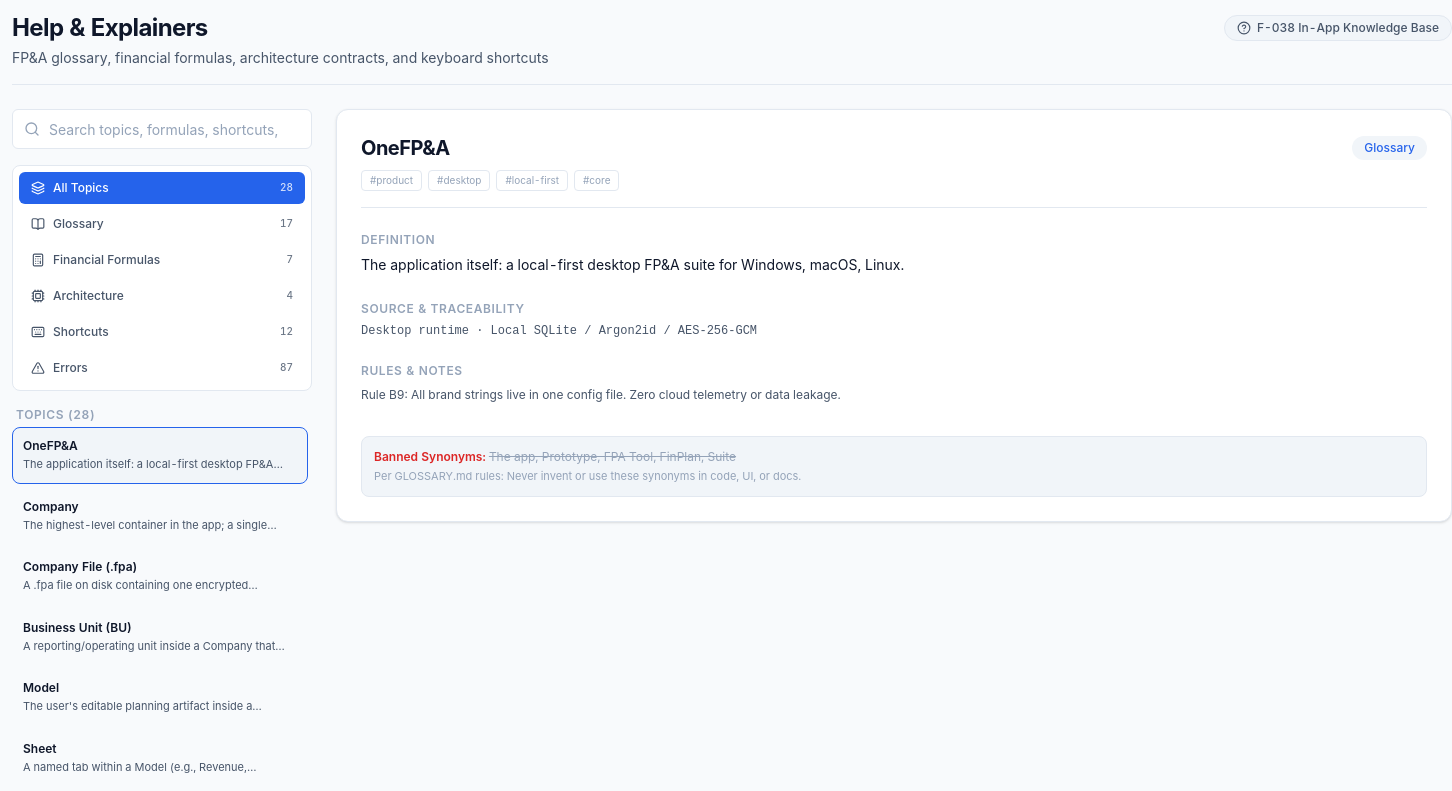
Test: S-076 Help & Explainers (F-038) › filters topics dynamically via live search and shows empty state with CTA when no match
The width and height of the screenshot is (1452, 791).
// Type query matching "EBITDA"
Type "EBITDA" into the field labelled "Search topics, formulas, shortcuts, or terms…" at (162, 129), box x1=12 y1=109 x2=312 y2=149
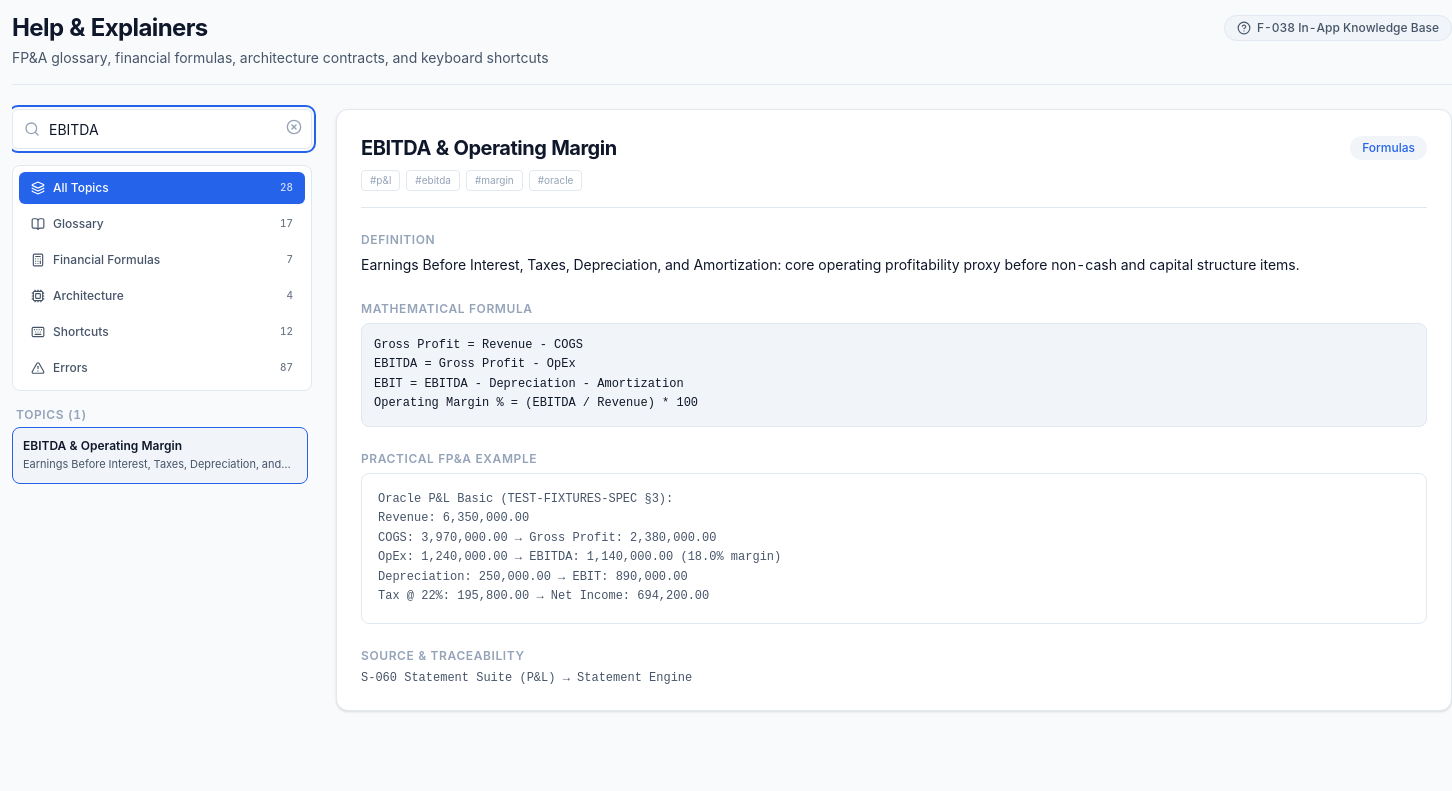
Check: the heading "EBITDA & Operating Margin" is shown, box x1=361 y1=134 x2=617 y2=162
Check: the heading "Mathematical Formula" is shown, box x1=361 y1=301 x2=533 y2=316
Replace the text in the field named "Search topics, formulas, shortcuts" with "xyznonexistentsearchterm123" at (162, 129), box x1=12 y1=109 x2=312 y2=149
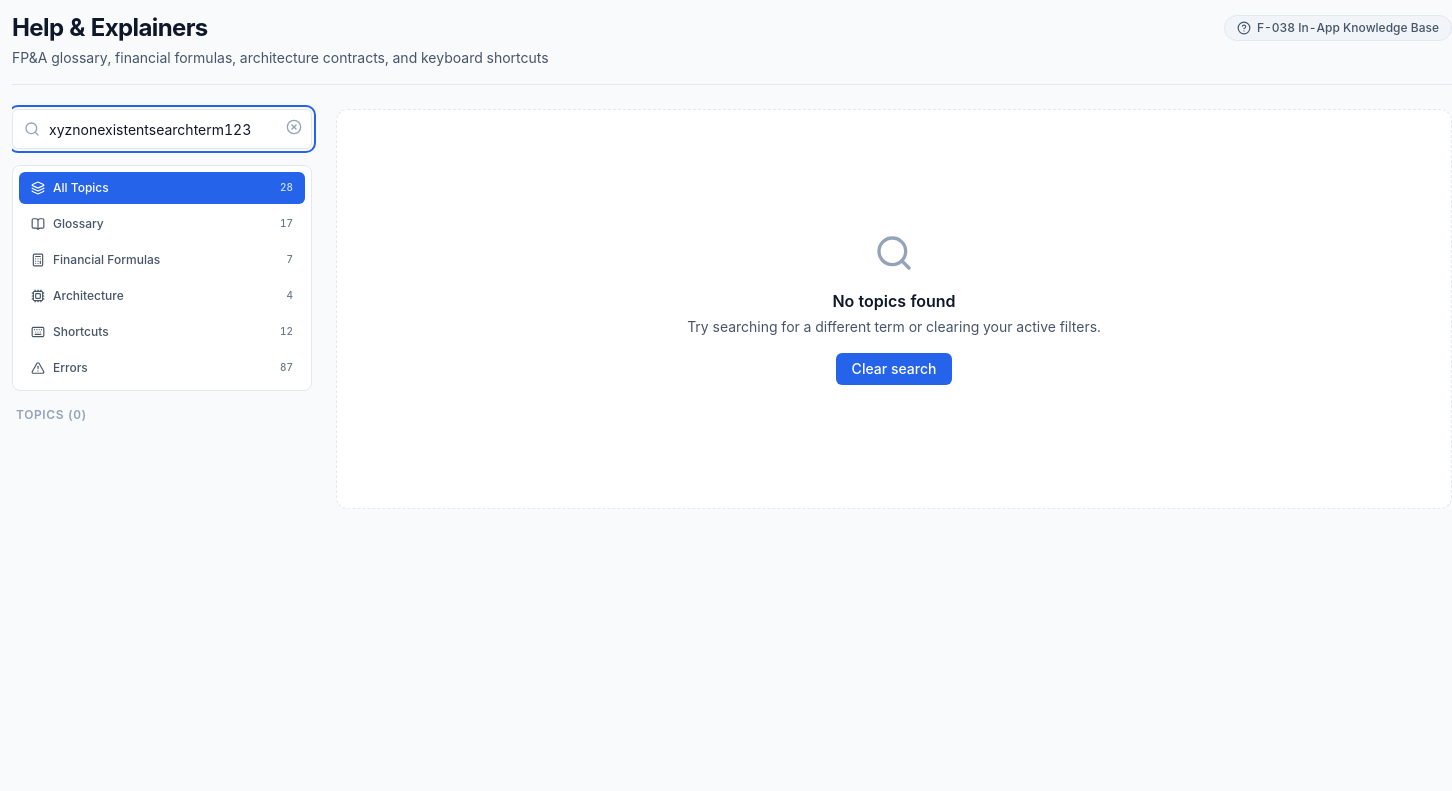
Check: the heading "No topics found" is shown, box x1=832 y1=291 x2=956 y2=311
// Click "Clear search" CTA
Click the button "Clear search" at (894, 369), box x1=836 y1=353 x2=952 y2=385
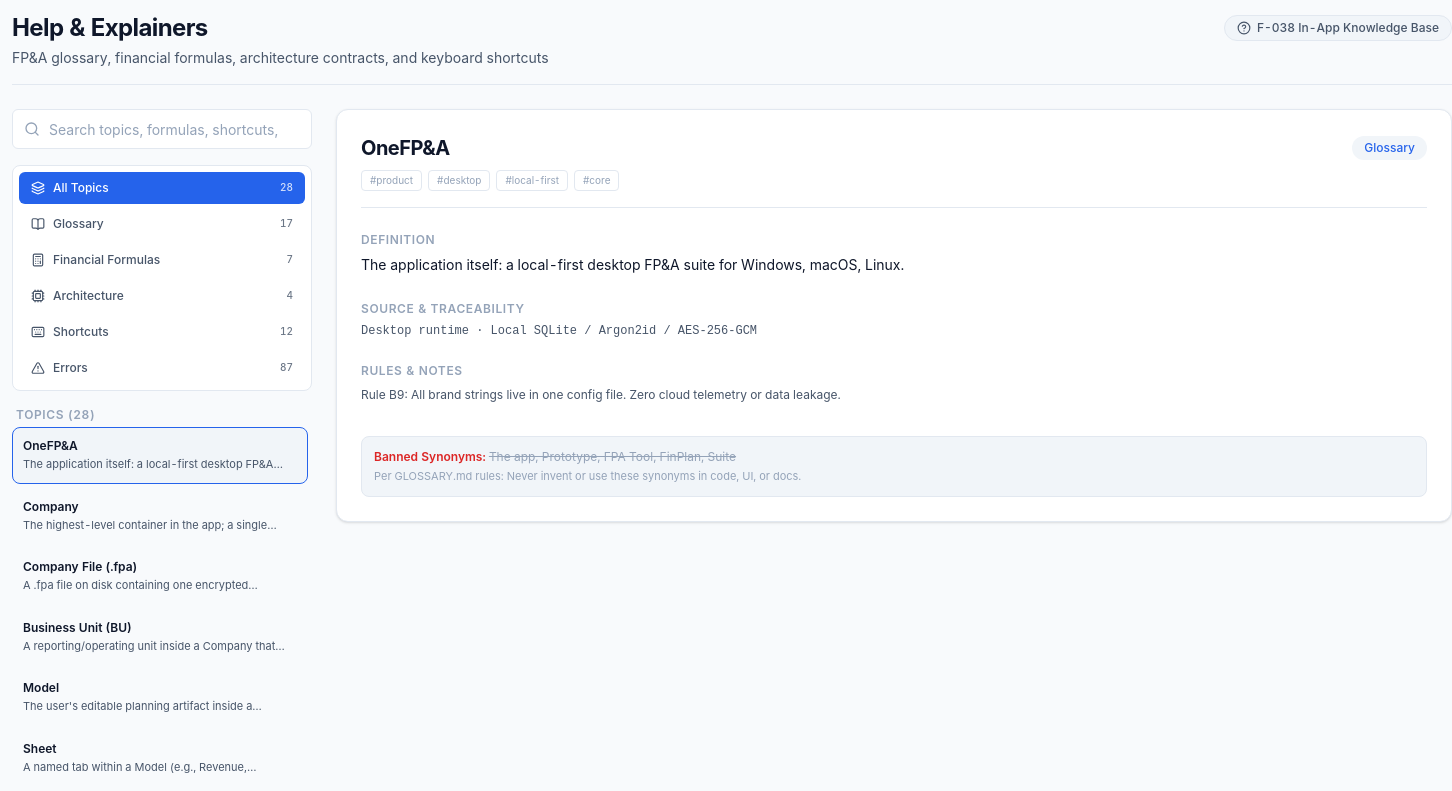
Check: the heading "OneFP&A" is shown, box x1=361 y1=134 x2=450 y2=162
